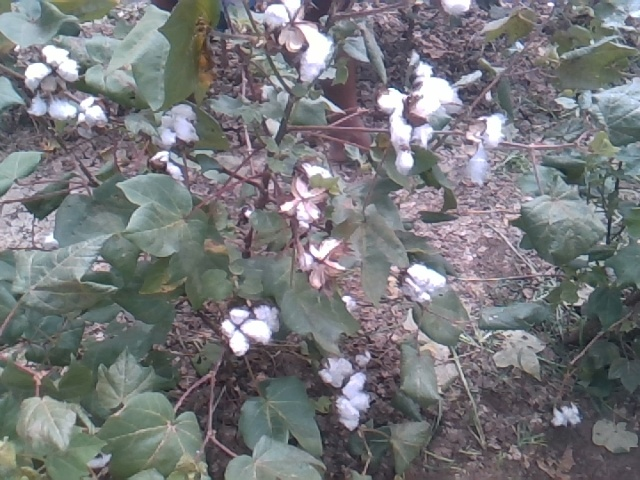cotton: (261, 4, 331, 81), (375, 89, 426, 168), (414, 66, 462, 136), (467, 110, 511, 186), (219, 304, 274, 360), (22, 44, 85, 92), (276, 181, 331, 227), (401, 262, 454, 309), (333, 371, 372, 431), (159, 102, 205, 149), (27, 83, 79, 124), (246, 293, 292, 334), (316, 353, 356, 397), (74, 93, 107, 135), (297, 160, 337, 187), (549, 400, 584, 428)
